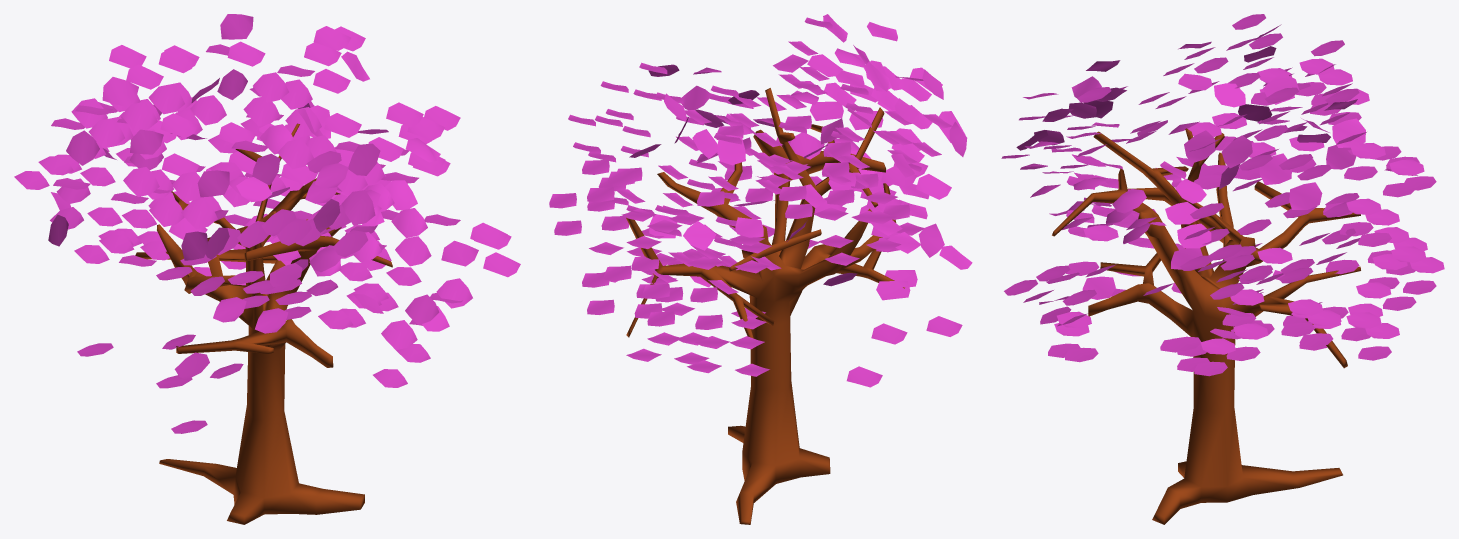
The model's file is baum_b007.FBX.
3 views of the same model, side by side, from view 1: azimuth 30°, elevation 25°; view 2: azimuth 150°, elevation 25°; view 3: azimuth 270°, elevation 25° (orthographic). The views are drawn at different scales.
Visible parts, largest first — view 1: Baum_B007; view 2: Baum_B007; view 3: Baum_B007.
Boxes of the visible parts, x1=… form: Baum_B007: x1=14, y1=14, x2=520, y2=524; Baum_B007: x1=549, y1=14, x2=972, y2=524; Baum_B007: x1=1001, y1=14, x2=1444, y2=524.
Bounding box in the file's own units: 32.34 × 34.39 × 32.48.
